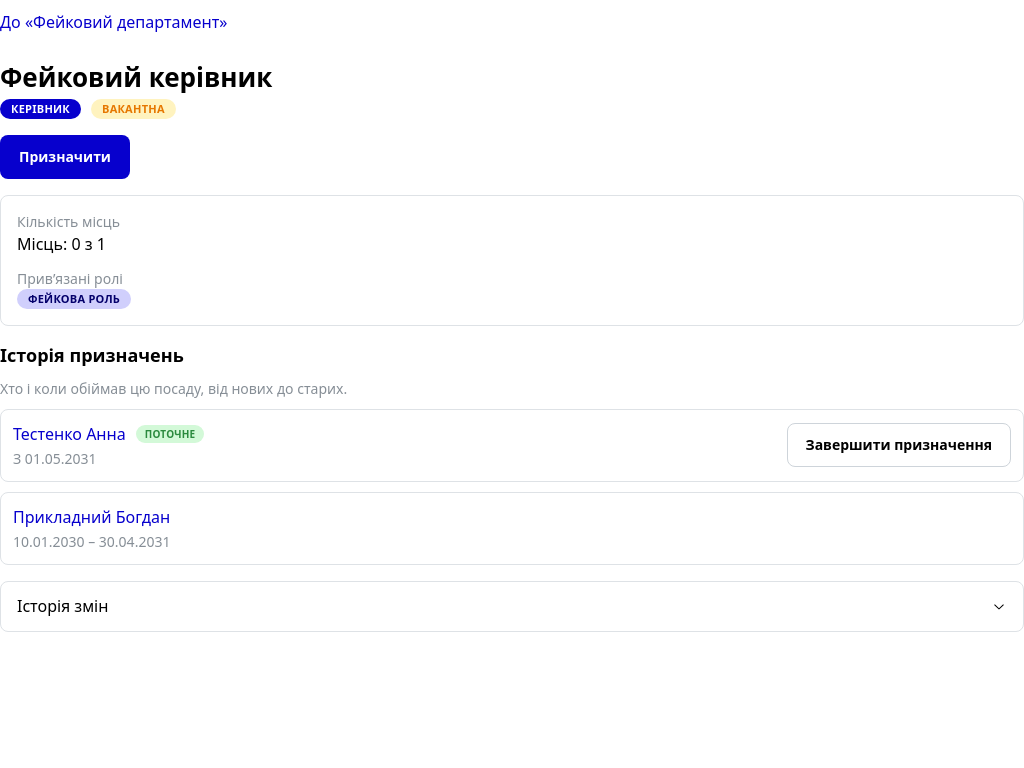
Test: PositionPage › blocks appointing with a future start date client-side
The image size is (1024, 768).
Click the button "Призначити" at (65,157), box [0,135,130,179]
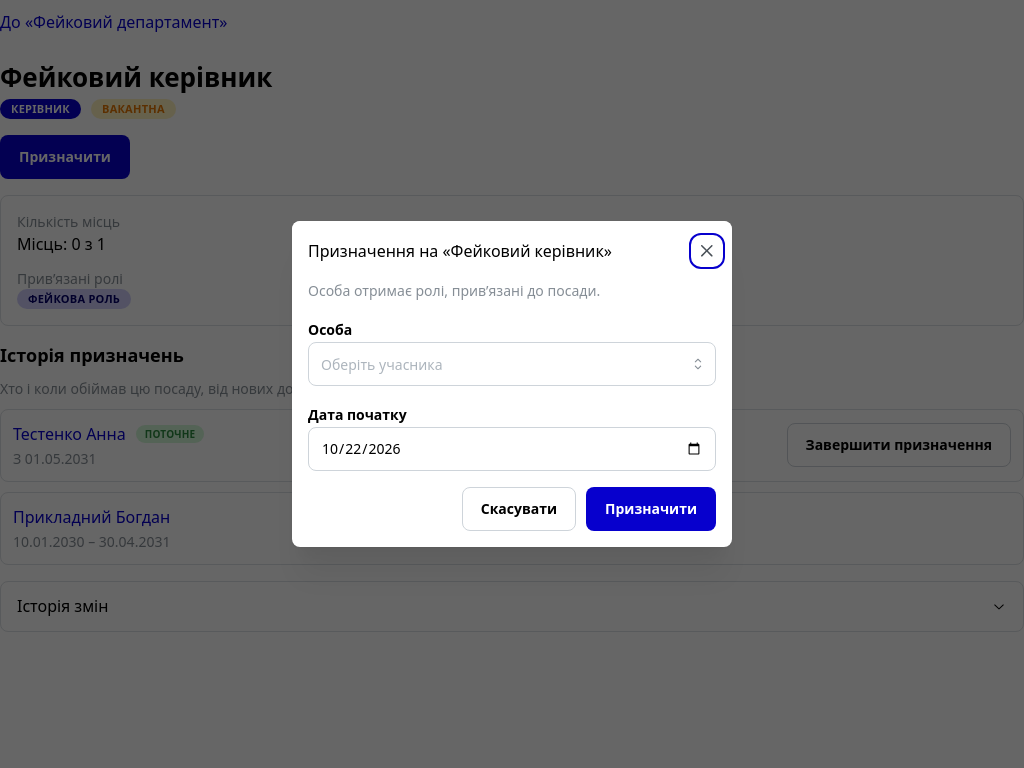
Type "2999-01-01" into the date field labelled "Дата початку" at (512,449), box [308,427,716,471]
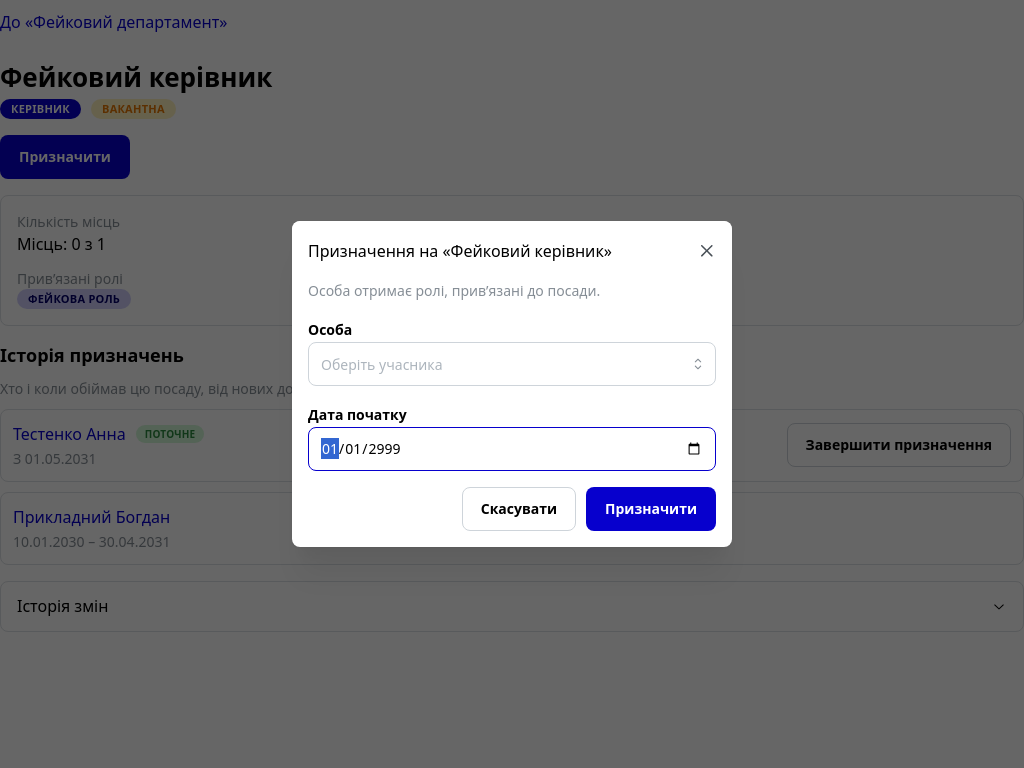
Click the button "Призначити" at (651,509), box [586,487,716,531]
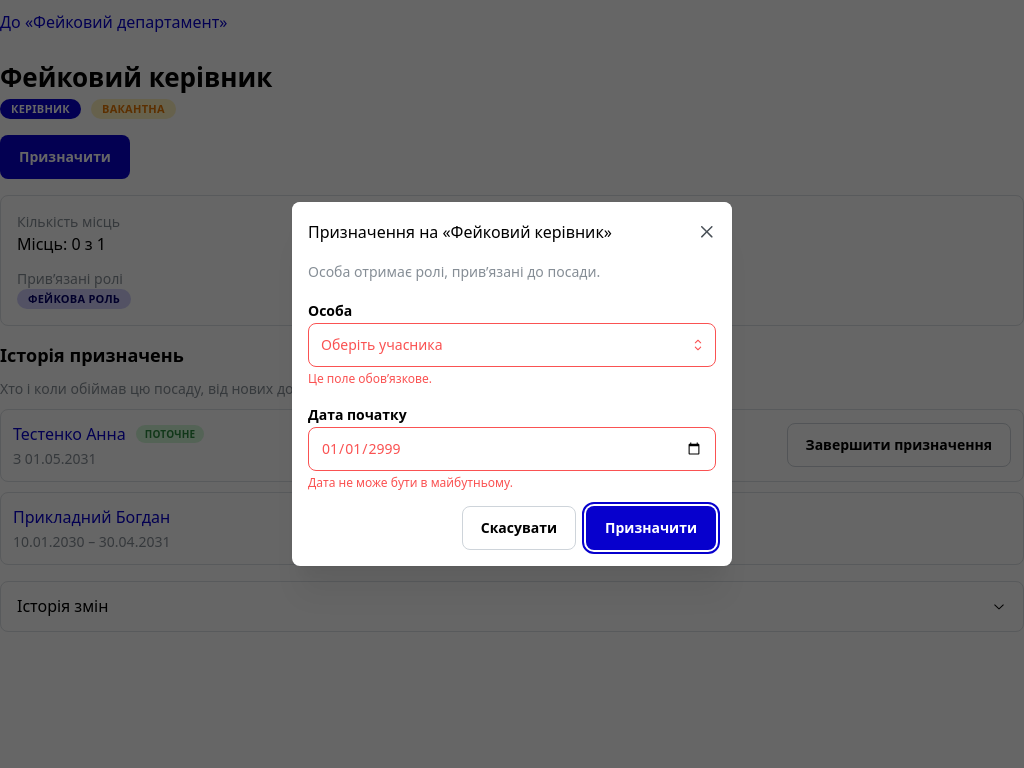
Result: the text "Дата не може бути в майбутньому." is shown at [308,474,513,491]
Result: the text "Це поле обов’язкове." is shown at [308,370,432,387]
